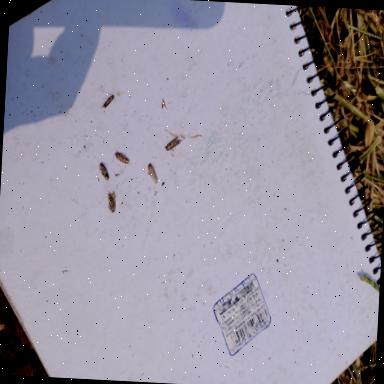pbw: (110, 146, 130, 164), (164, 135, 184, 151), (99, 92, 115, 110), (104, 190, 116, 213), (146, 163, 159, 184), (98, 162, 110, 182)
